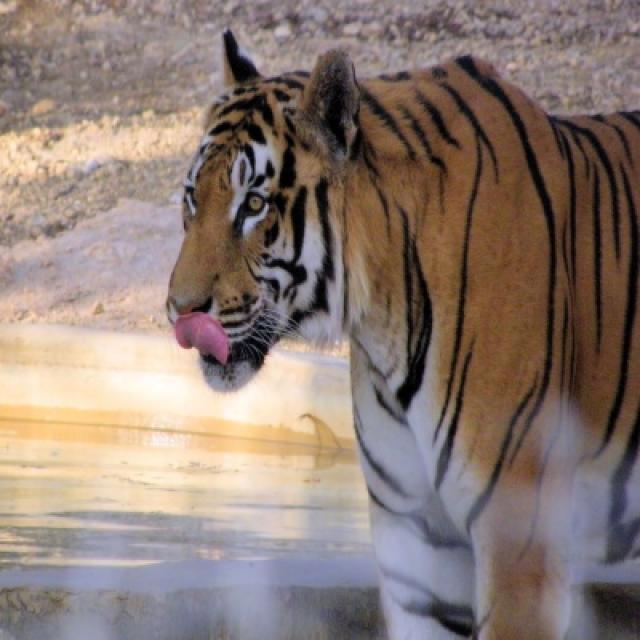Tiger: (167, 26, 638, 635)
